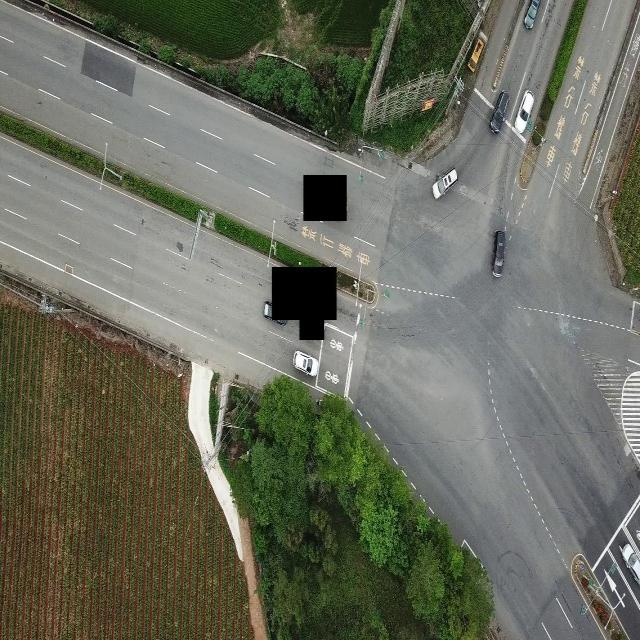car: (490, 90, 510, 136), (621, 538, 639, 583), (432, 168, 458, 199), (516, 91, 534, 132), (293, 349, 318, 377), (262, 299, 287, 327), (491, 228, 505, 277), (524, 0, 539, 29)
